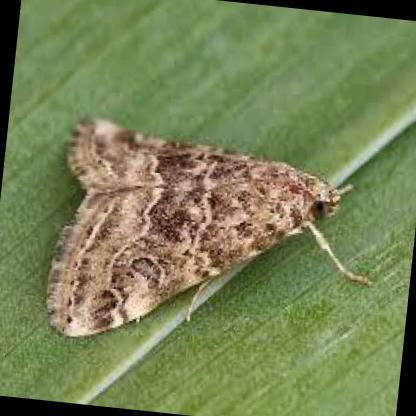Hellula undalis: (43, 111, 379, 342)
